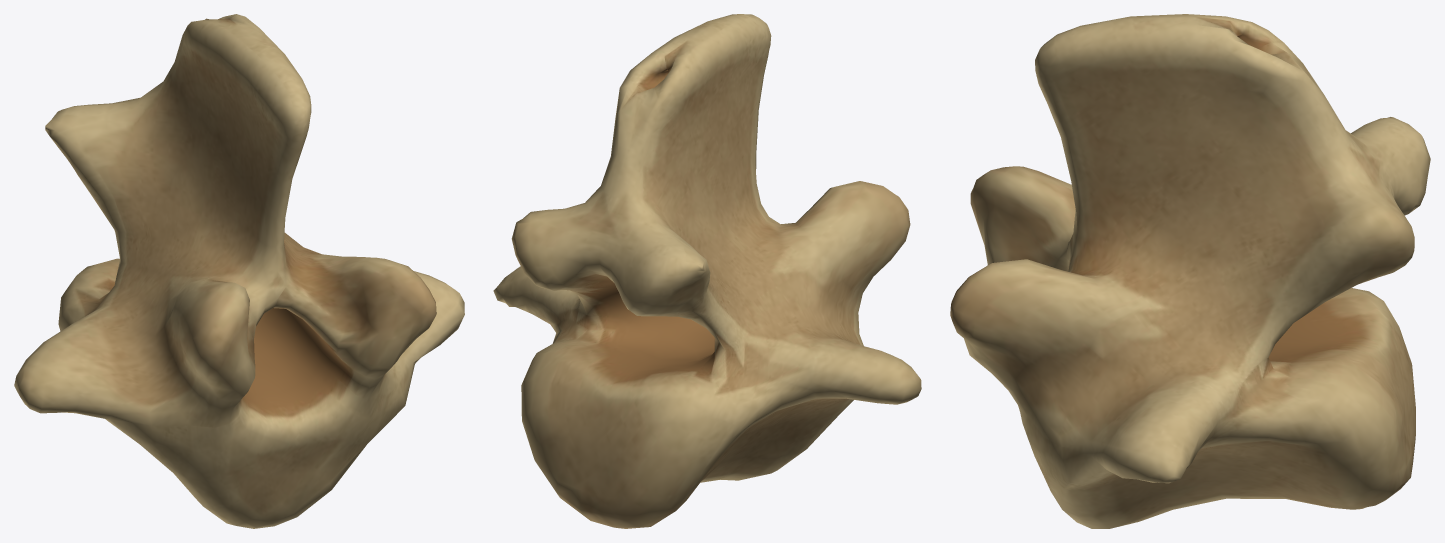
The picture shows the model from 3 angles, left to right: view 1: azimuth 30°, elevation 25°; view 2: azimuth 150°, elevation 25°; view 3: azimuth 270°, elevation 25°; orthographic projection. The views are drawn at different scales.
Parts seen in each view (by area): view 1: T10.001; view 2: T10.001; view 3: T10.001.
Part boxes in pixels (left/top/right/bottom): T10.001: left=14, top=14, right=464, bottom=528; T10.001: left=493, top=14, right=921, bottom=528; T10.001: left=950, top=14, right=1430, bottom=528.
Size of the model in its own units: 63.27 by 64.83 by 54.94.
Materials: 1 (1 with a texture image).
